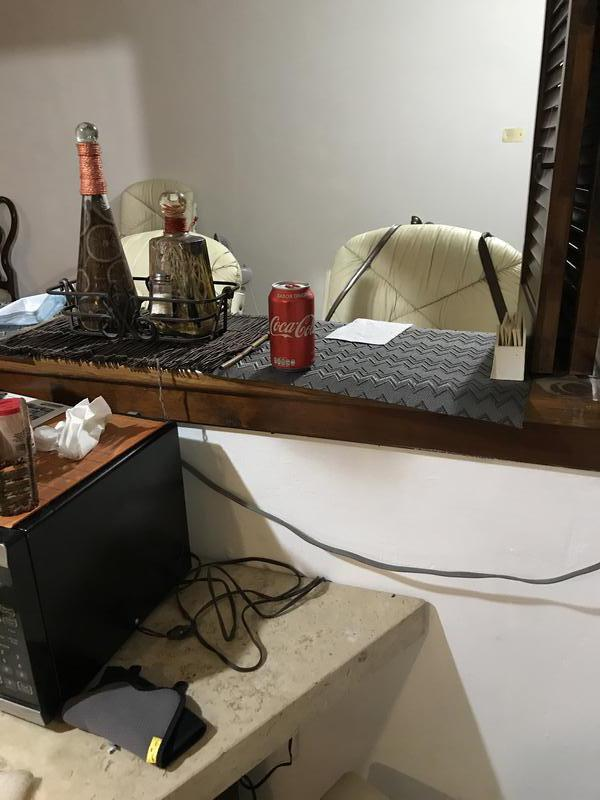coca_cola: (269, 282, 314, 372)
